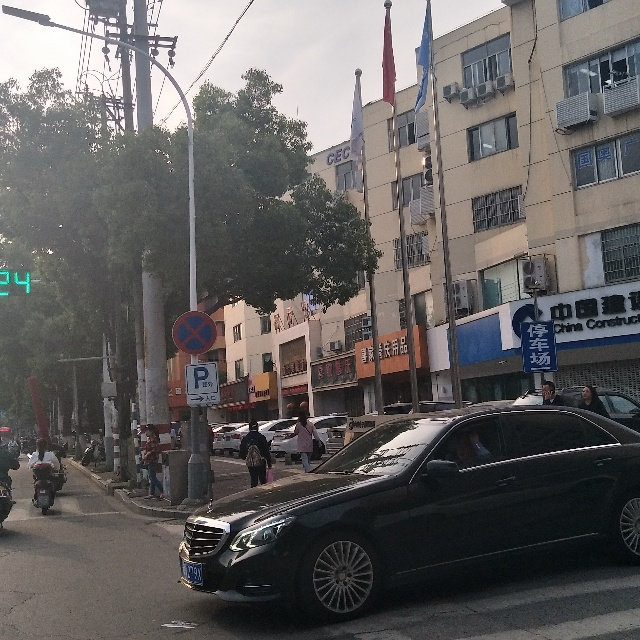stop: (171, 312, 219, 353)
